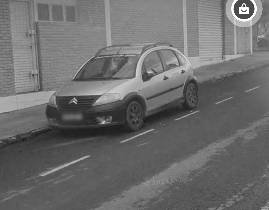car: (42, 42, 206, 135)
